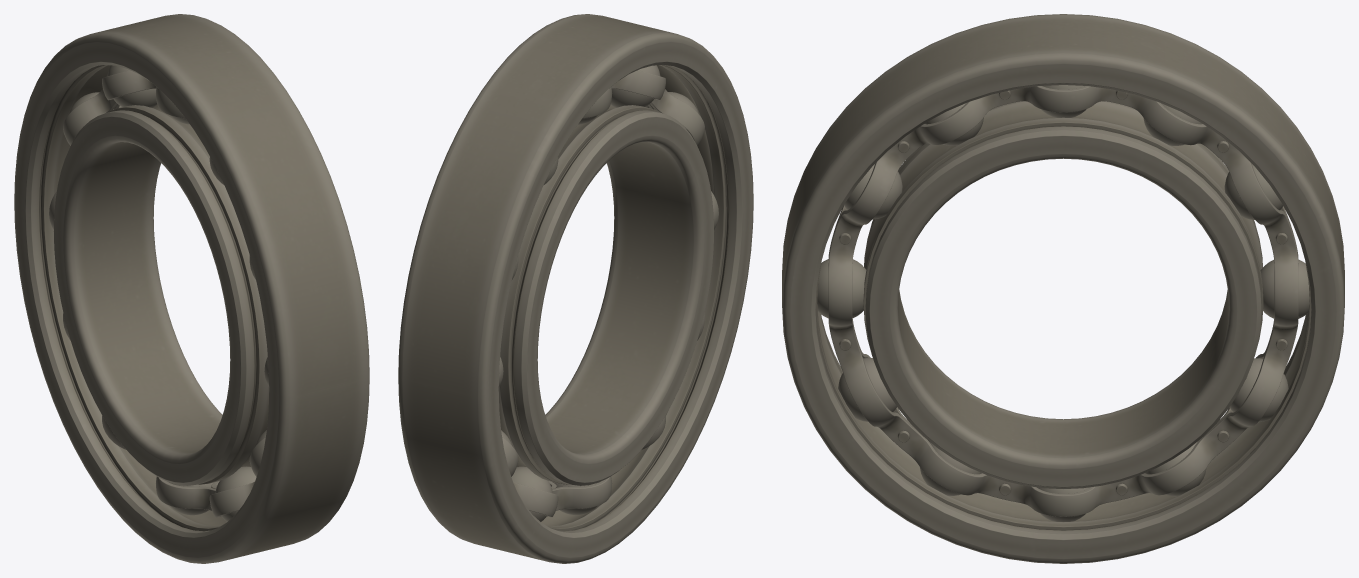
Rendered from ball_bearing.glb.
The picture shows the model from 3 angles, left to right: view 1: azimuth 30°, elevation 25°; view 2: azimuth 150°, elevation 25°; view 3: azimuth 270°, elevation 25°; orthographic projection. The views are drawn at different scales.
Parts seen in each view (by area): view 1: ball_bearing_out, ball_bearing_in, ball_bearing_cage, ball_bearing_ball_003, ball_bearing_ball_009; view 2: ball_bearing_out, ball_bearing_in, ball_bearing_cage, ball_bearing_ball_005, ball_bearing_ball_011; view 3: ball_bearing_out, ball_bearing_in, ball_bearing_cage, ball_bearing_ball_001, ball_bearing_ball_007, ball_bearing_ball_008, ball_bearing_ball_012, ball_bearing_ball_006, ball_bearing_ball_002.
Boxes of the visible parts, x1,y1,x2,y2 form: ball_bearing_out: (14,14,369,563); ball_bearing_in: (53,105,269,485); ball_bearing_cage: (49,70,268,517); ball_bearing_ball_003: (107,65,157,107); ball_bearing_ball_009: (215,466,256,521); ball_bearing_out: (398,14,753,563); ball_bearing_in: (498,105,714,485); ball_bearing_cage: (498,70,718,517); ball_bearing_ball_005: (610,65,660,107); ball_bearing_ball_011: (511,466,552,521); ball_bearing_out: (782,14,1344,563); ball_bearing_in: (863,101,1263,488); ball_bearing_cage: (828,86,1298,516); ball_bearing_ball_001: (1260,259,1309,318); ball_bearing_ball_007: (817,259,866,318); ball_bearing_ball_008: (838,358,896,421); ball_bearing_ball_012: (1229,358,1288,422); ball_bearing_ball_006: (844,164,902,219); ball_bearing_ball_002: (1224,164,1282,219).
Size of the model in its own units: 1.38 by 7.3 by 7.3.
Materials: 1 (1 with a texture image).
